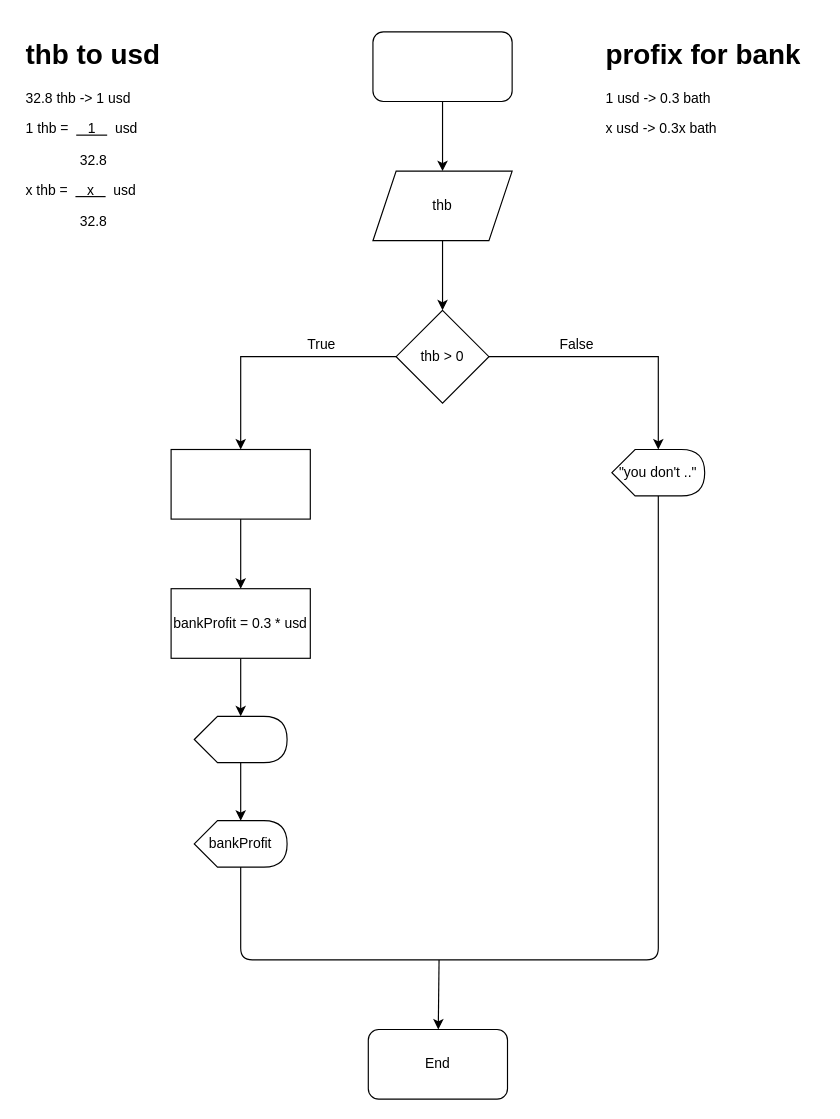
This 840x1119 diagram has some shape labels left out. The shapes that lost their labels are listed below. From the top down, each one's centre as x and y in pixels, then its label:
point (442, 66): start
point (240, 483): usd = thb / 32.8
point (240, 739): usd
